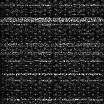lte: (1, 16, 104, 22), (1, 72, 103, 76), (2, 59, 104, 63)
